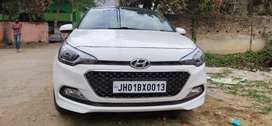JH01BX0013: (113, 81, 167, 93)
